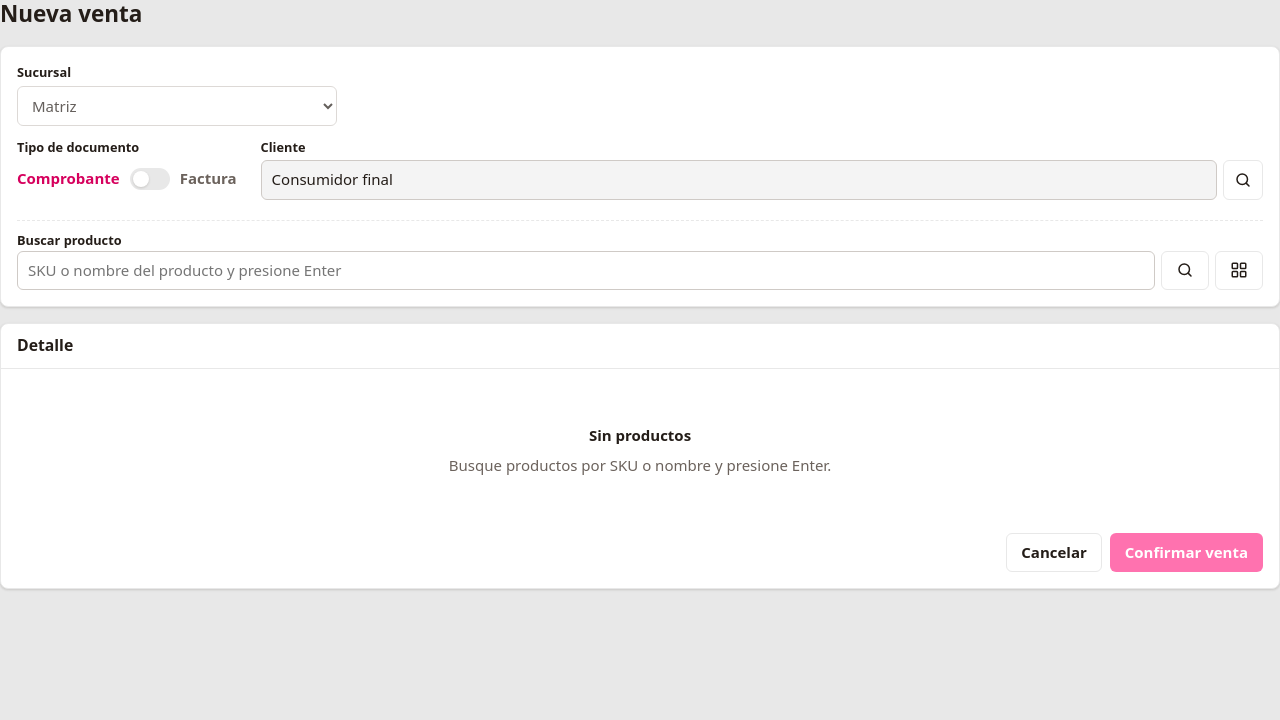
Scenario: NewSalePage › lists several matches to choose and opens the image large
The image size is (1280, 720).
Type "pantalla" into the field labelled "Buscar producto" at (586, 270), box [17,251,1155,290]
Then press Enter
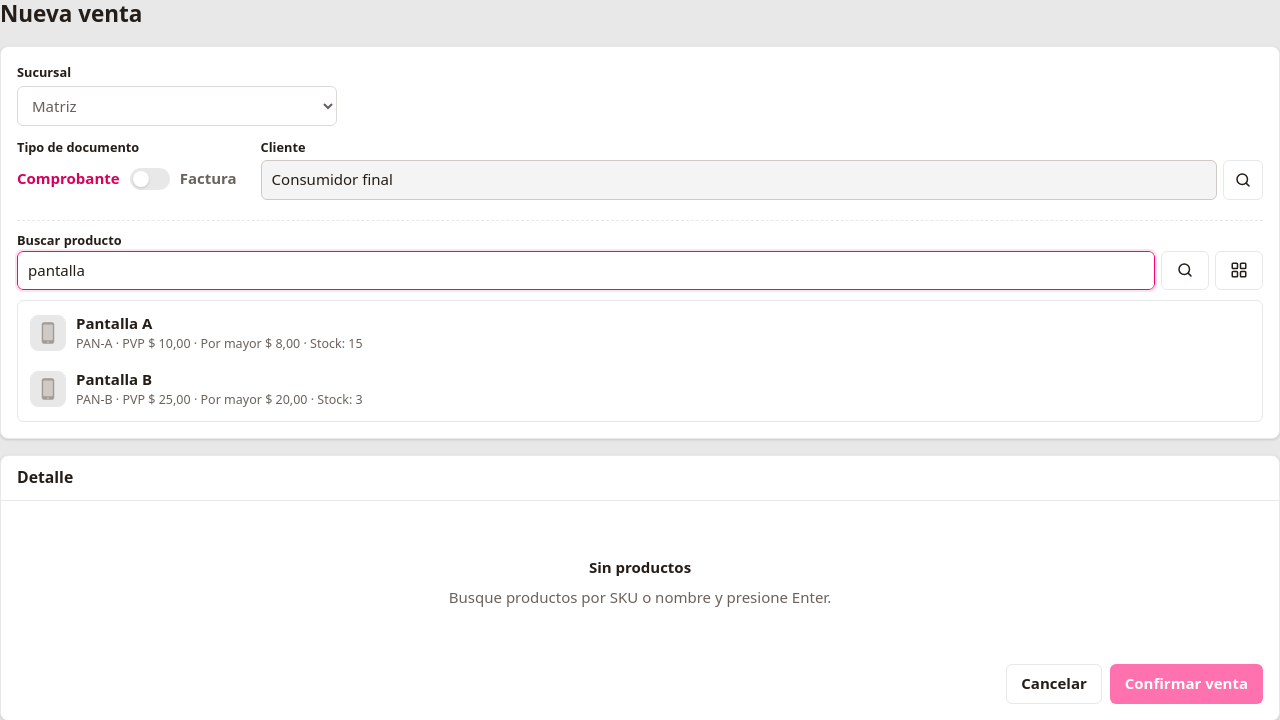
Click the text "Pantalla B" at (114, 379), box [76,369,152,389]
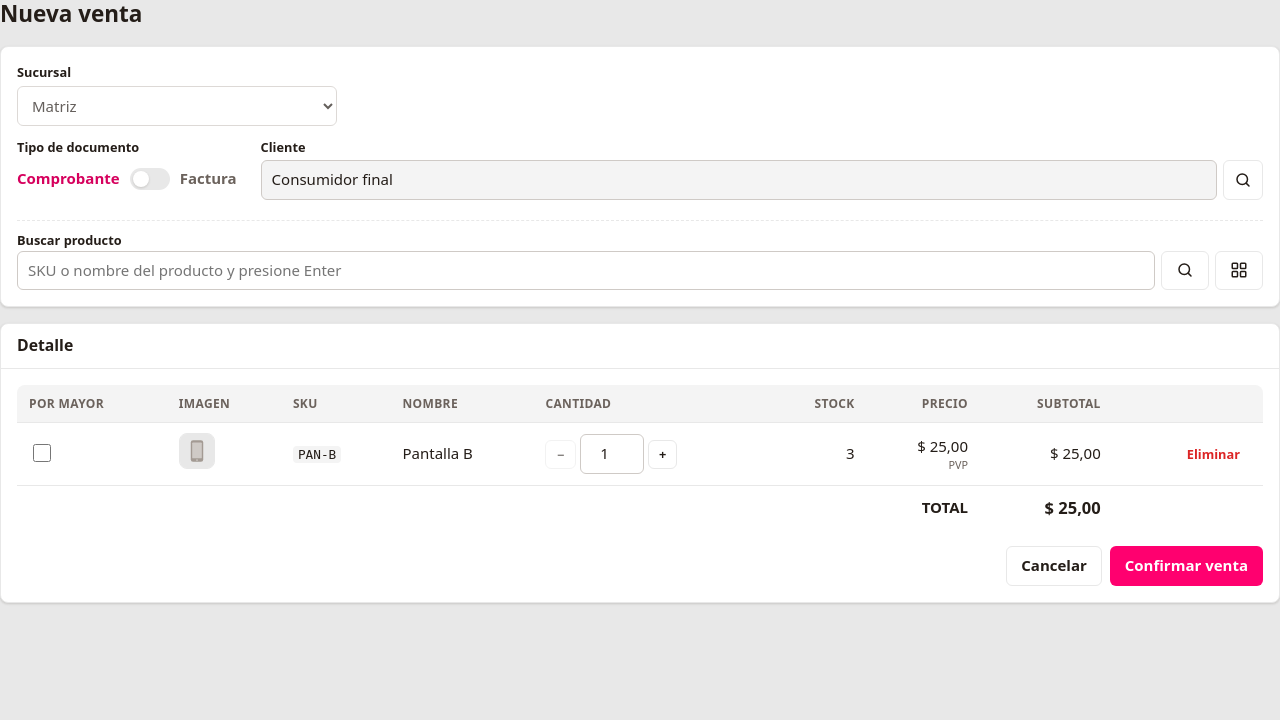
Check: the number field named "Cantidad de Pantalla B" is shown, box [580,434,644,474]
Click the button named "Ver imagen de Pantalla B" at (197, 453), box [179,433,215,472]
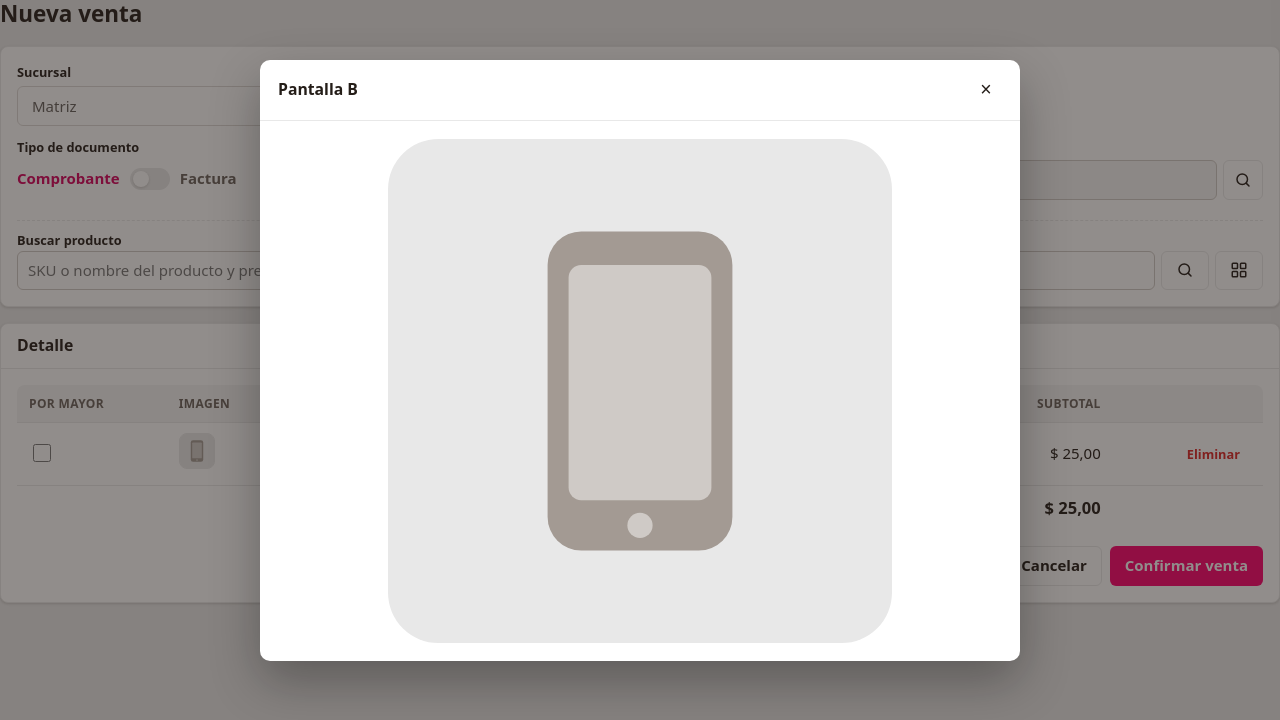
Check: the dialog "Pantalla B" is shown, box [260,60,1020,660]
